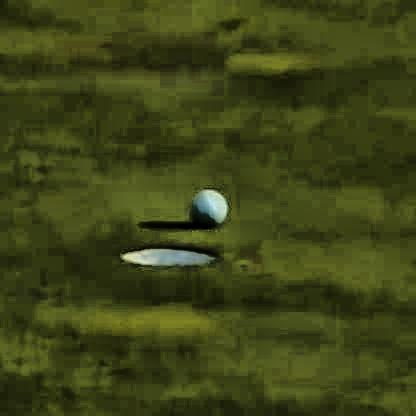golfball: (189, 184, 225, 223)
